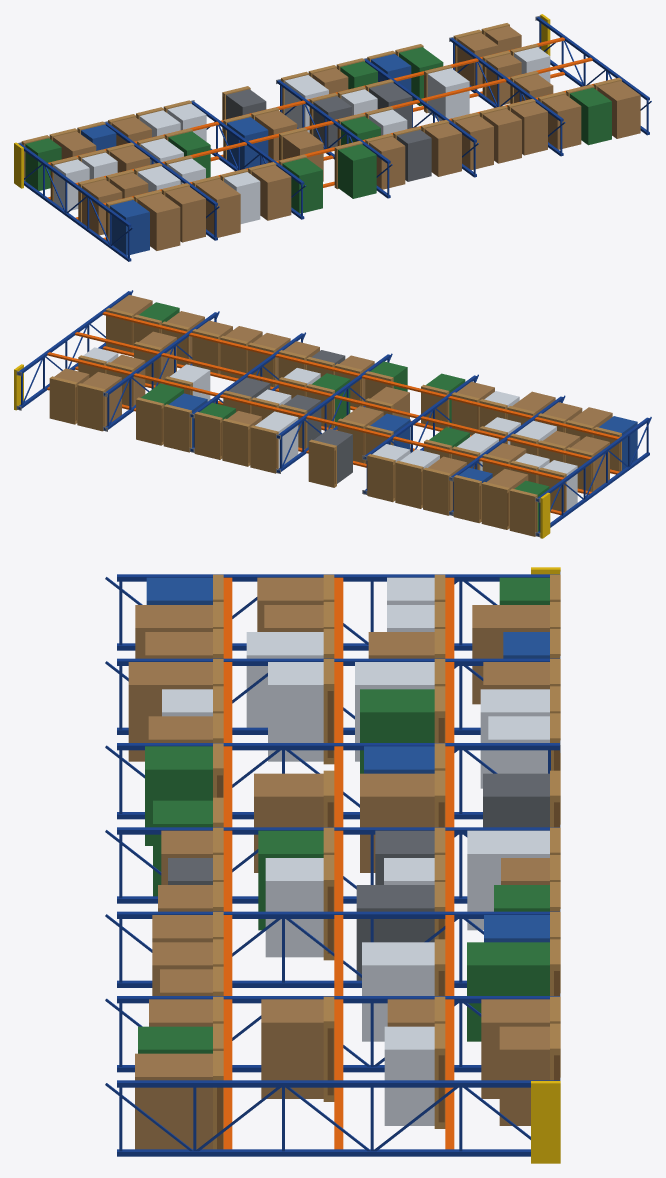
File: rack_A.obj
3 renders of one model, top to bottom at view 1: azimuth 30°, elevation 25°; view 2: azimuth 150°, elevation 25°; view 3: azimuth 270°, elevation 25°, orthographic. The views are drawn at different scales.
Parts seen in each view (by area): view 1: cardboard, wrap, crate_green, upright, wood, crate_blue, crate_grey, beam, wood_dark, yellow; view 2: wood, cardboard, upright, beam, wrap, crate_green, crate_grey, crate_blue, wood_dark, yellow; view 3: cardboard, wrap, upright, crate_green, wood, beam, crate_grey, crate_blue, wood_dark, yellow.
Boxes of the visible parts, left/top/right/bottom form: cardboard: left=53, top=26, right=640, bottom=250; wrap: left=54, top=47, right=550, bottom=223; crate_green: left=25, top=47, right=611, bottom=213; upright: left=19, top=17, right=651, bottom=261; wood: left=21, top=23, right=621, bottom=241; crate_blue: left=81, top=54, right=411, bottom=255; crate_grey: left=226, top=82, right=431, bottom=181; beam: left=48, top=37, right=615, bottom=239; wood_dark: left=50, top=33, right=595, bottom=240; yellow: left=14, top=14, right=550, bottom=188; wood: left=49, top=308, right=621, bottom=536; cardboard: left=54, top=295, right=612, bottom=510; upright: left=17, top=290, right=651, bottom=535; beam: left=47, top=311, right=619, bottom=515; wrap: left=83, top=347, right=577, bottom=510; crate_green: left=139, top=302, right=549, bottom=531; crate_grey: left=228, top=350, right=352, bottom=483; crate_blue: left=169, top=393, right=637, bottom=482; wood_dark: left=75, top=322, right=620, bottom=532; yellow: left=14, top=364, right=550, bottom=538; cardboard: left=128, top=577, right=549, bottom=1149; wrap: left=162, top=577, right=549, bottom=1125; upright: left=105, top=574, right=559, bottom=1156; crate_green: left=138, top=577, right=549, bottom=1053; wood: left=213, top=574, right=560, bottom=1149; beam: left=223, top=577, right=454, bottom=1149; crate_grey: left=168, top=773, right=549, bottom=980; crate_blue: left=146, top=577, right=549, bottom=942; wood_dark: left=217, top=690, right=559, bottom=1149; yellow: left=531, top=567, right=560, bottom=1163.
Size of the model in its own units: 16.52 by 1.2 by 6.16.
